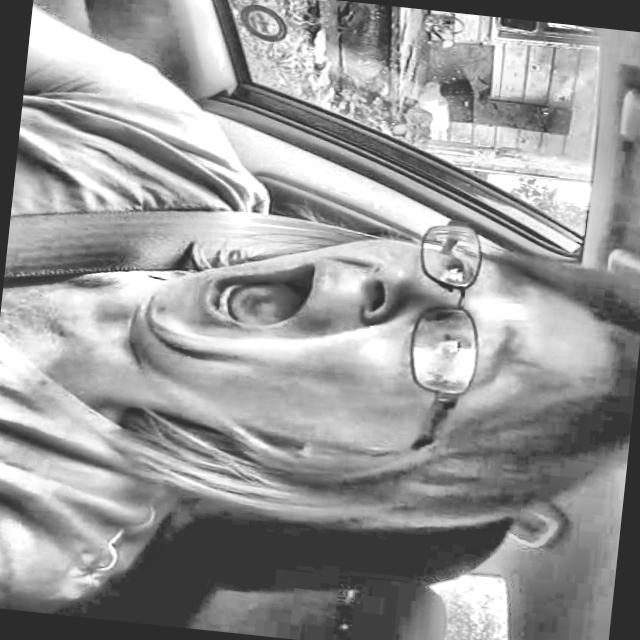open_eyes: (421, 222, 478, 292)
open_mouth: (176, 247, 340, 356)
